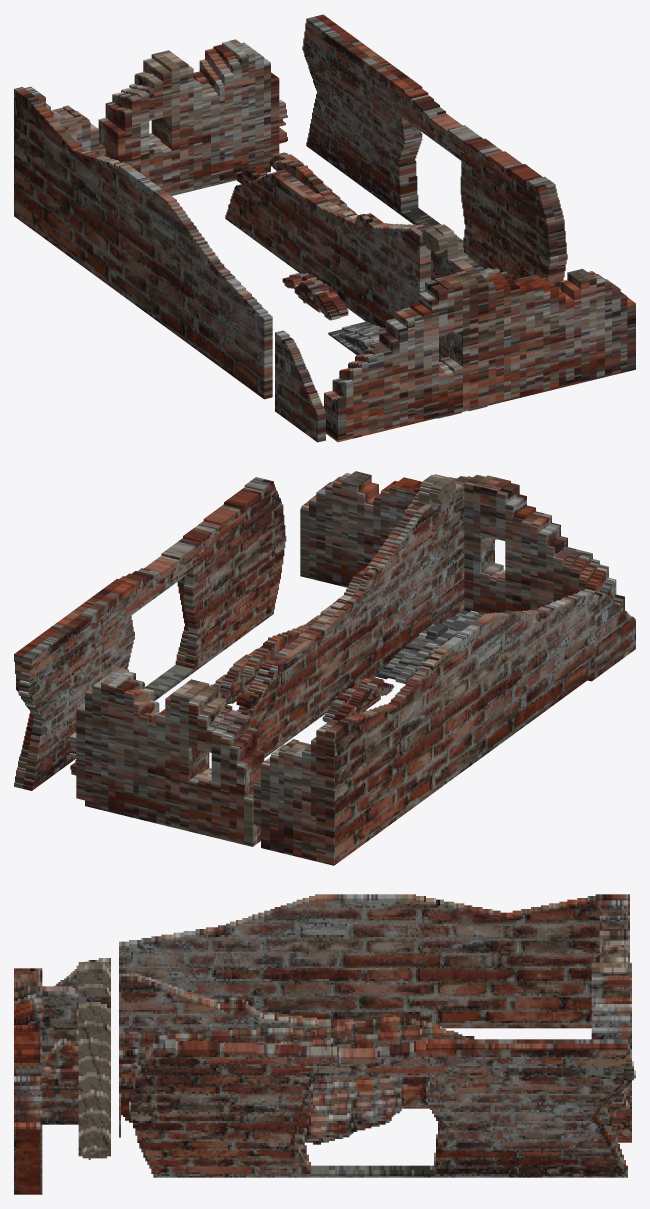
Rendered from House8.fbx.
3 views of the same model, one above another, from view 1: azimuth 30°, elevation 25°; view 2: azimuth 150°, elevation 25°; view 3: azimuth 270°, elevation 25° (orthographic). The views are drawn at different scales.
Parts seen in each view (by area): view 1: Cube; view 2: Cube; view 3: Cube.
Part boxes in pixels (x1,y1,x2,y2): Cube: (14, 14, 635, 442); Cube: (14, 471, 635, 865); Cube: (14, 894, 635, 1194).
Size of the model in its own units: 1870 by 850 by 3080.
